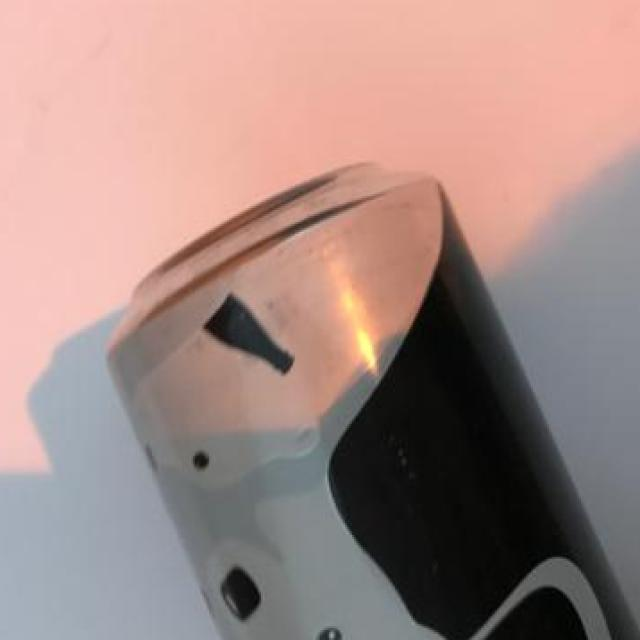organic: (68, 150, 619, 629)
